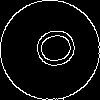O: (25, 25, 78, 73)
